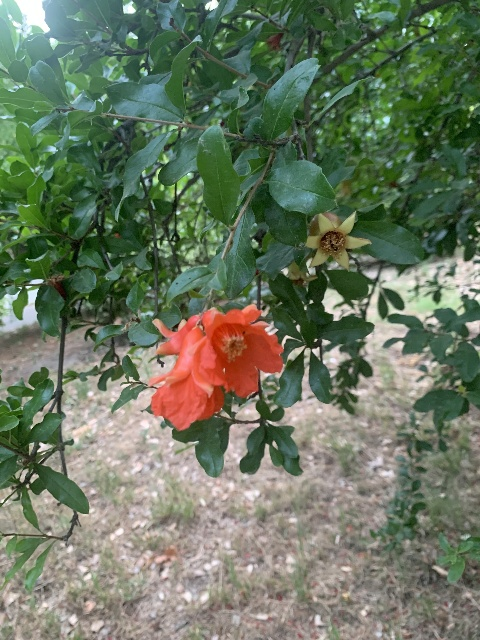early-fruit: (306, 212, 372, 270)
flower: (148, 316, 223, 430), (193, 304, 283, 396), (153, 316, 202, 356)
